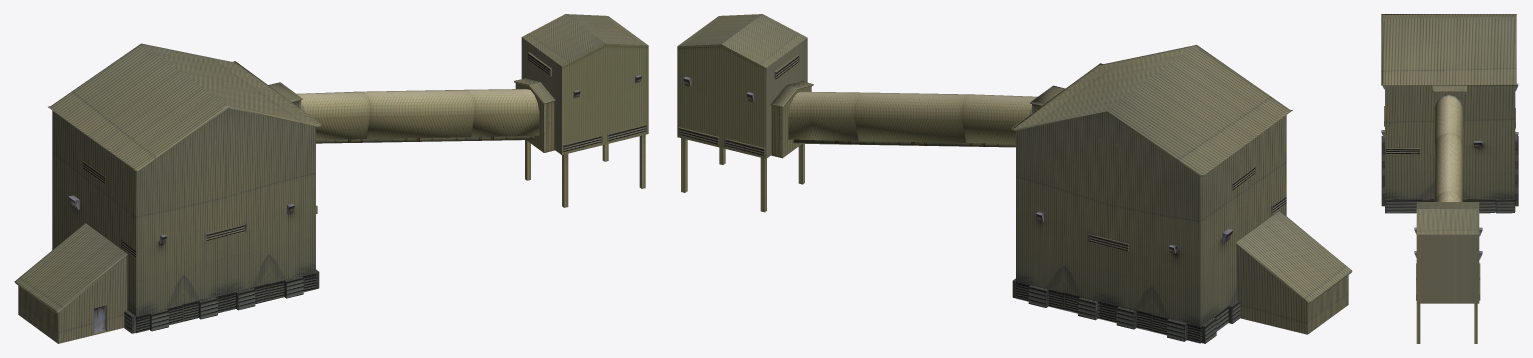
Rendered from industrial22.obj.
3 renders of one model, left to right at view 1: azimuth 30°, elevation 25°; view 2: azimuth 150°, elevation 25°; view 3: azimuth 270°, elevation 25°, orthographic. The views are drawn at different scales.
Parts seen in each view (by area): view 1: industrial122; view 2: industrial122; view 3: industrial122.
Boxes of the visible parts, bbox=[...] form: industrial122: bbox=[14, 14, 648, 343]; industrial122: bbox=[677, 14, 1352, 343]; industrial122: bbox=[1381, 14, 1518, 343].
Size of the model in its own units: 2036 by 664 by 516.
Materials: 1 (1 with a texture image).
